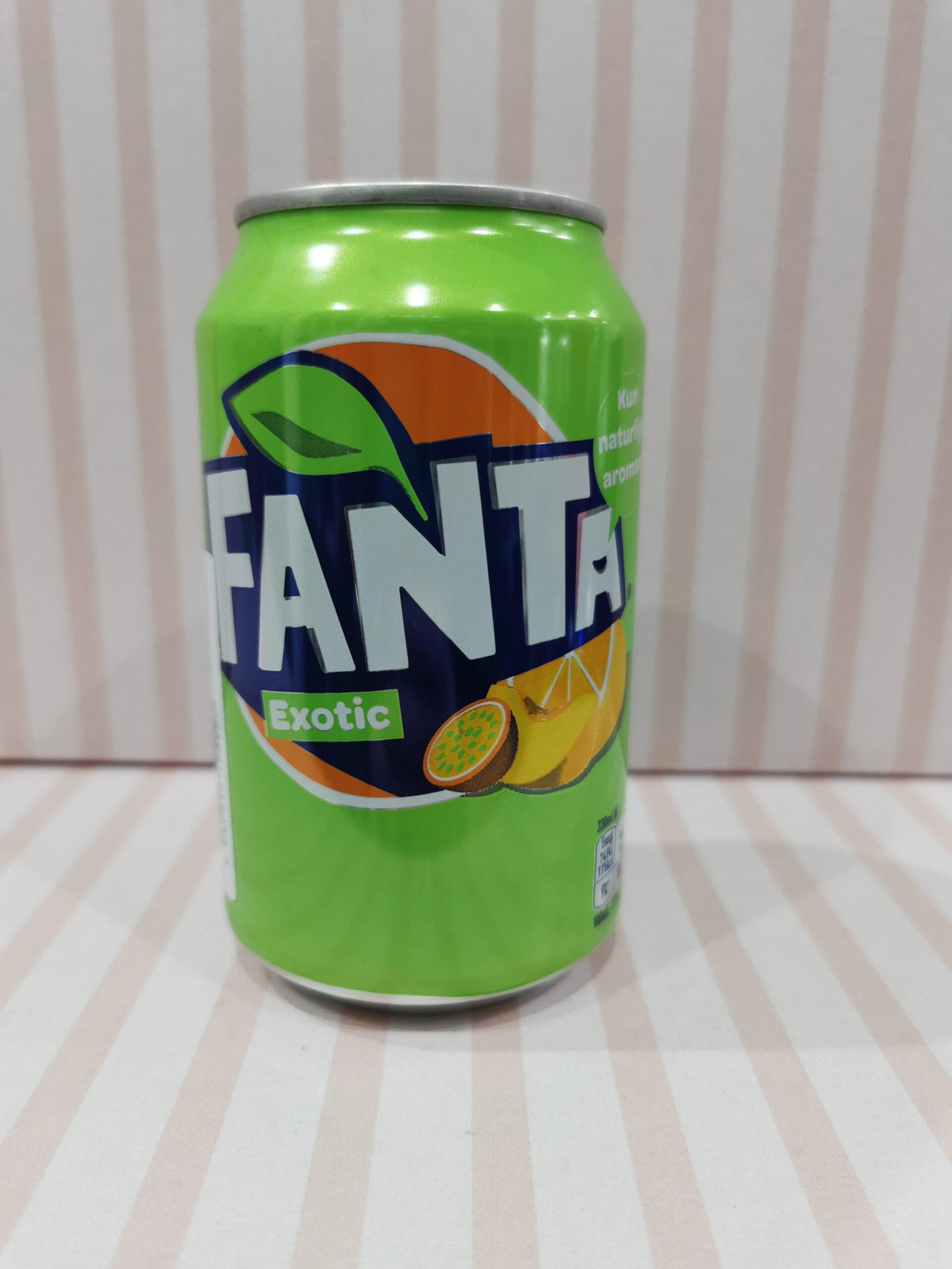metal: (196, 180, 645, 1010)
